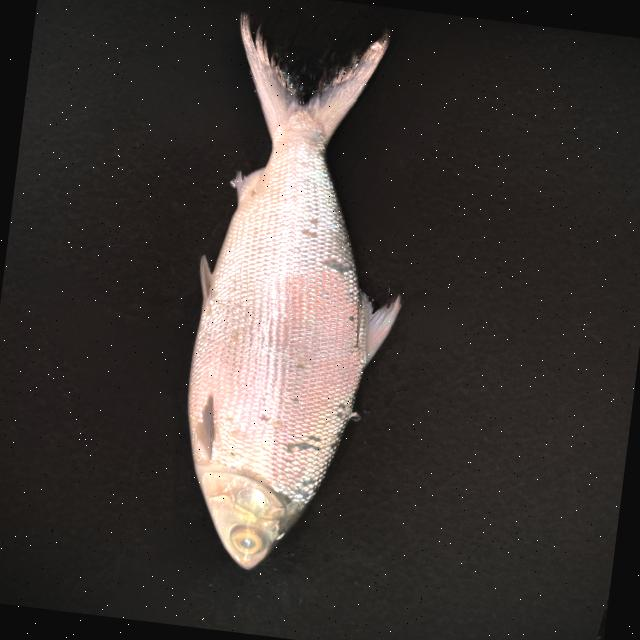905 g: (165, 8, 438, 583)
